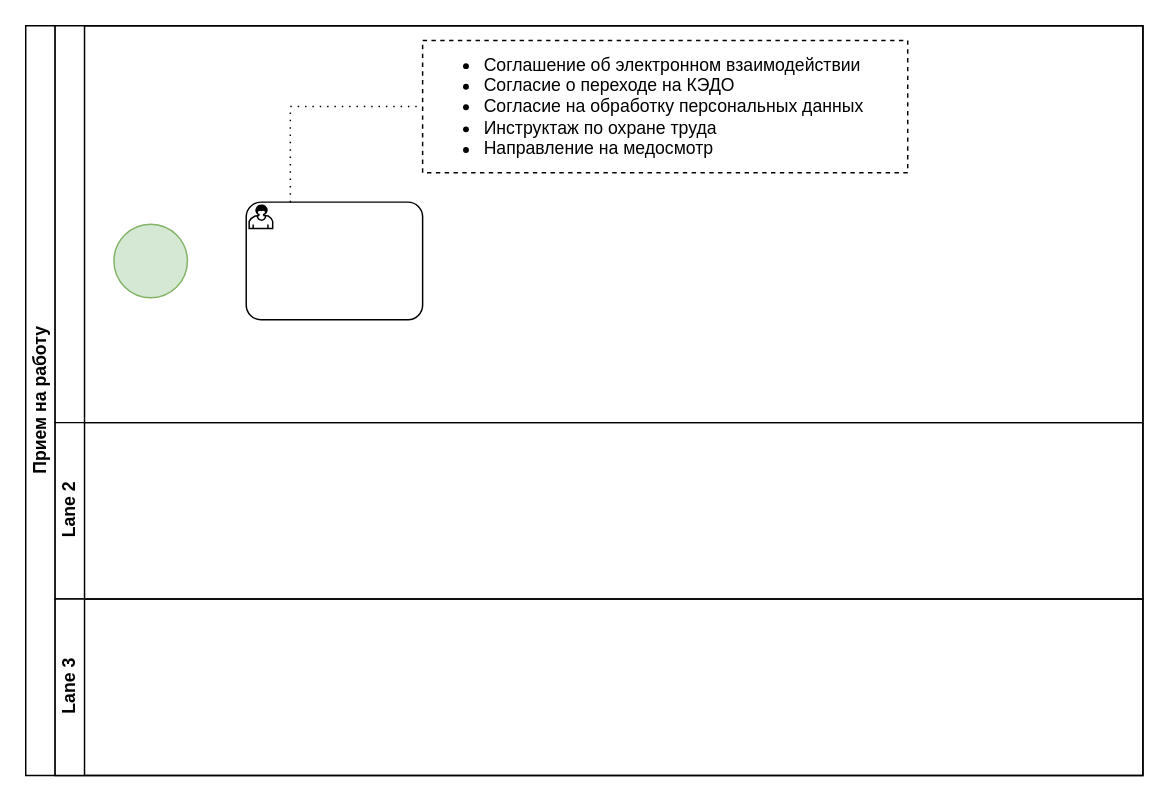
The diagram is 1169 pixels wide and 801 high, and some of its shapes have lost their labels. The box of each missing label's shape, as (x1, y1, x2, y2) in pixels:
Кадровый работник: (54, 24, 1143, 423)
Подготовить пакет документов: (245, 201, 423, 320)
